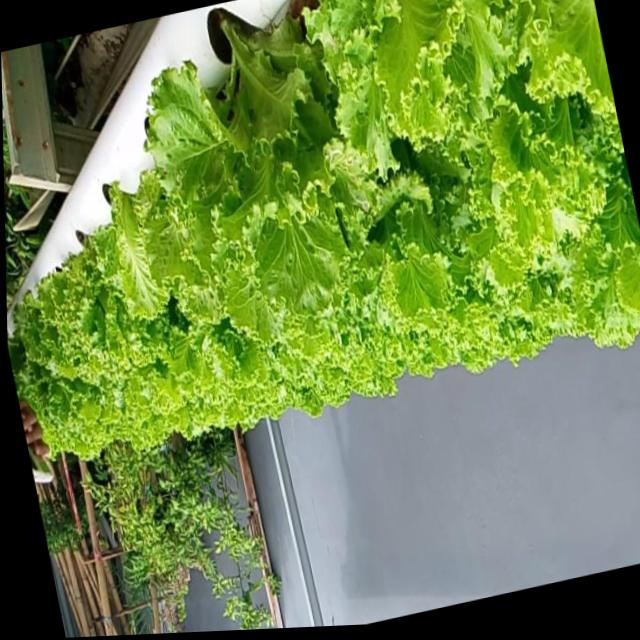Mature: (7, 0, 640, 470), (150, 6, 366, 335), (40, 220, 156, 385)
